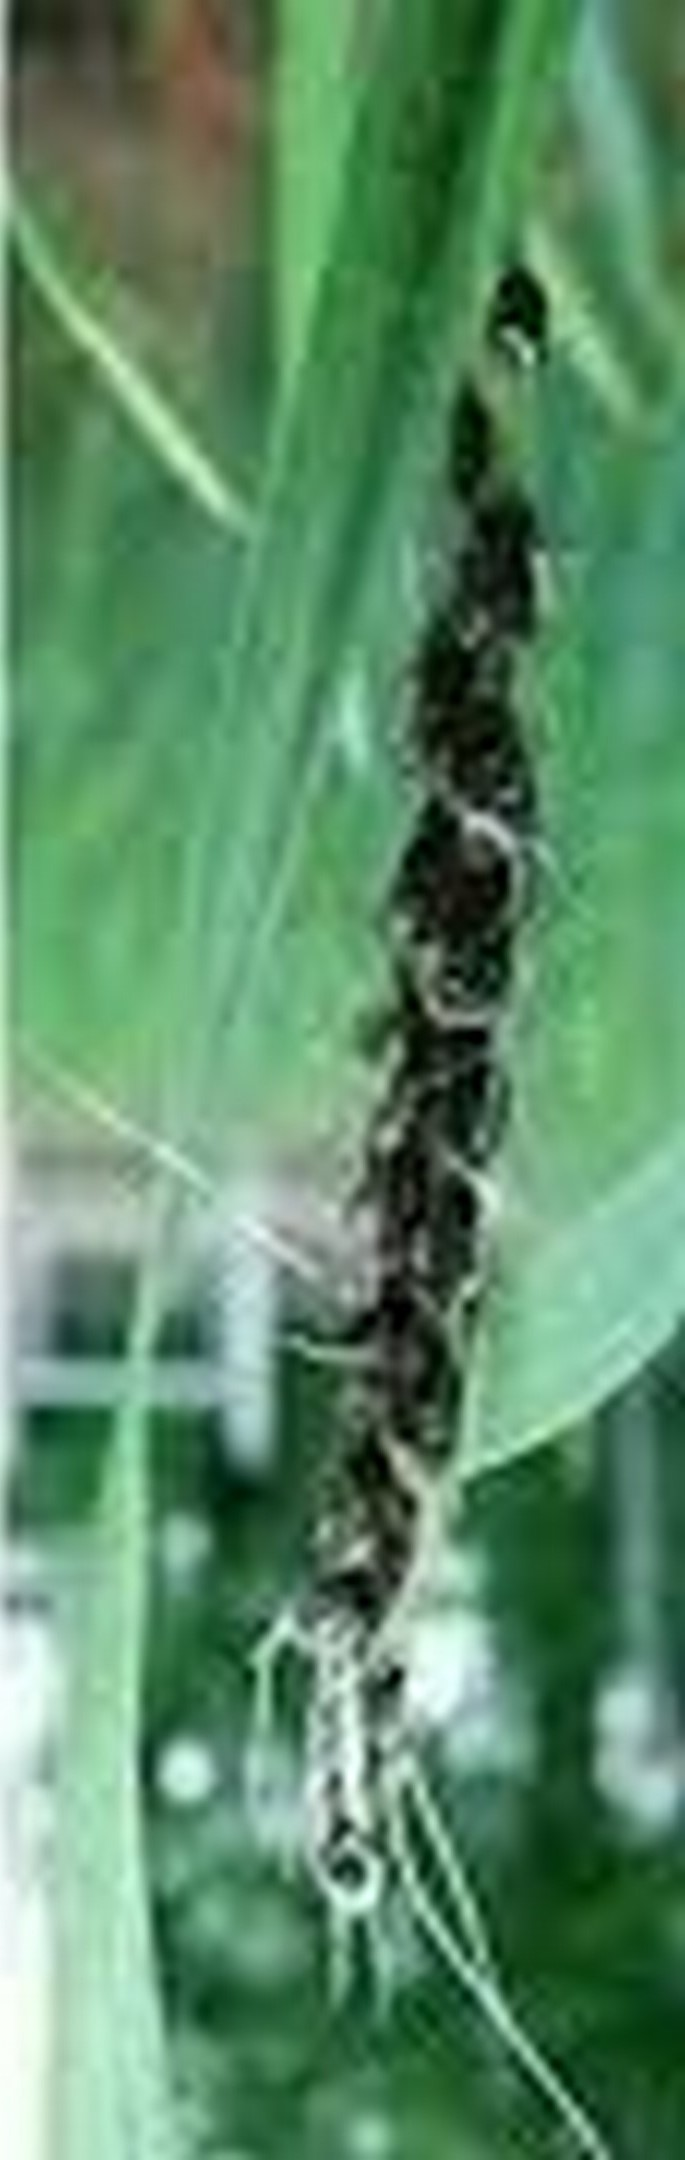Wheat Loose Smut: (287, 424, 611, 1678)
